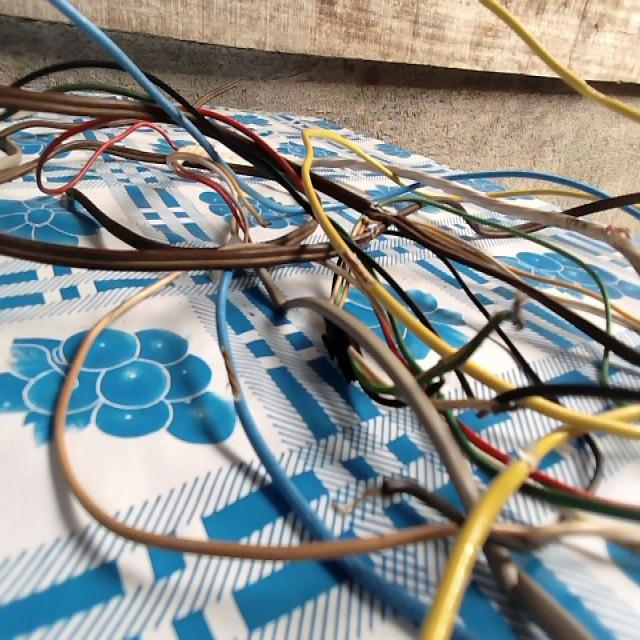-: (339, 244, 378, 292), (219, 343, 245, 405), (603, 221, 631, 244)
